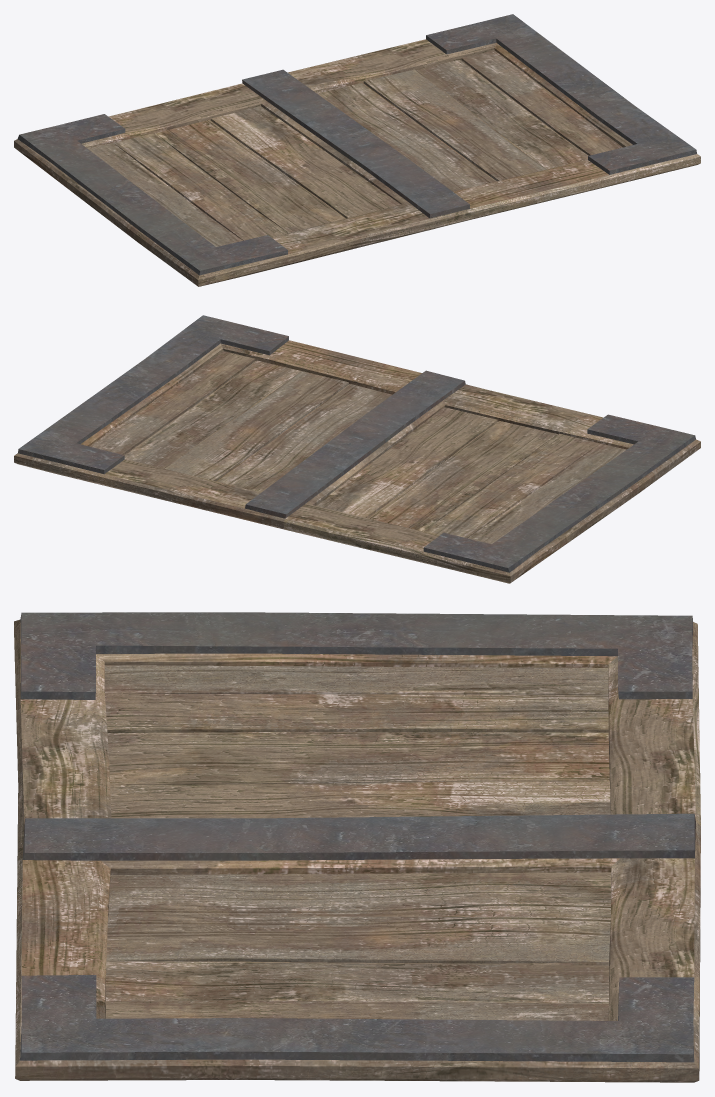
The model's file is SM_Crate_Lid_A_01.fbx.
3 renders of one model, top to bottom at view 1: azimuth 30°, elevation 25°; view 2: azimuth 150°, elevation 25°; view 3: azimuth 270°, elevation 25°, orthographic. The views are drawn at different scales.
Visible parts, largest first — view 1: SM_Crate_Lid_A_01_LOD0; view 2: SM_Crate_Lid_A_01_LOD0; view 3: SM_Crate_Lid_A_01_LOD0.
Part boxes in pixels (x1,y1,x2,y2): SM_Crate_Lid_A_01_LOD0: (14,14,700,286); SM_Crate_Lid_A_01_LOD0: (14,315,700,583); SM_Crate_Lid_A_01_LOD0: (14,612,700,1082).
Size of the model in its own units: 89.37 by 57.94 by 2.92.
